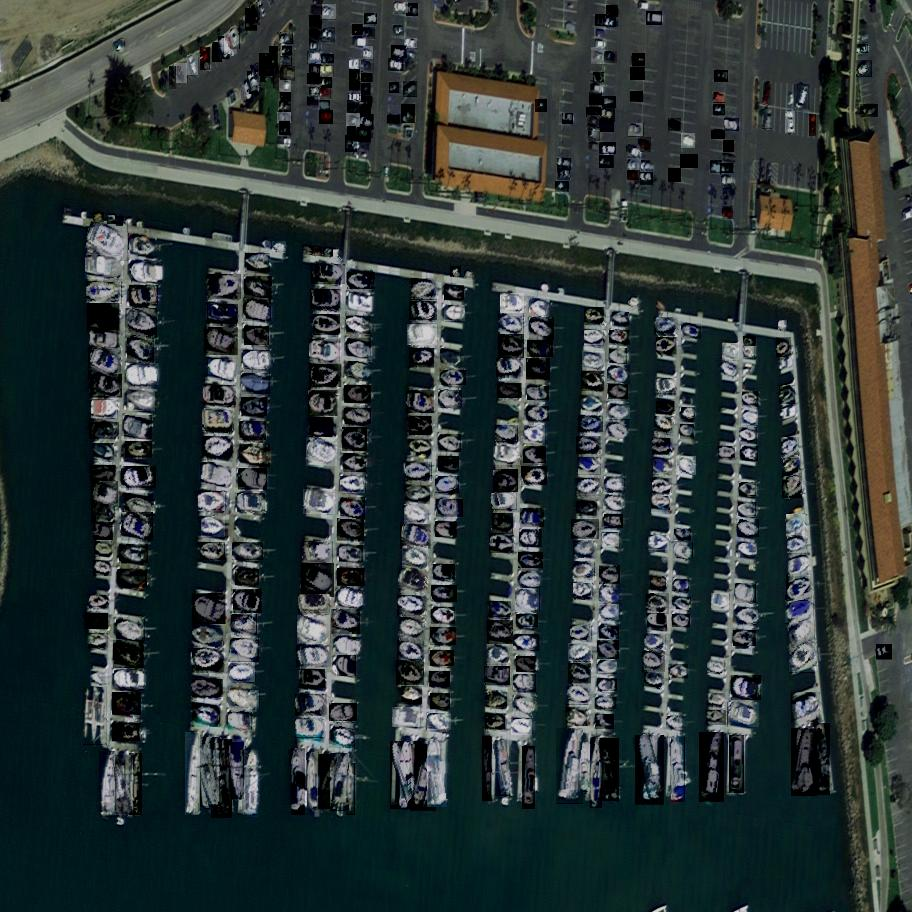ship: (635, 734, 665, 807), (556, 729, 585, 804), (391, 741, 422, 810), (193, 735, 221, 808), (84, 221, 131, 261), (410, 745, 438, 812), (699, 733, 726, 802), (791, 727, 817, 798), (212, 738, 233, 818), (83, 688, 110, 745), (109, 754, 134, 815), (314, 755, 342, 809), (428, 739, 448, 808), (185, 732, 201, 815), (600, 737, 620, 802), (299, 563, 337, 597), (787, 692, 825, 724), (86, 348, 123, 380), (330, 754, 350, 811), (785, 639, 819, 672), (814, 724, 830, 794), (192, 593, 228, 624), (85, 303, 124, 331), (119, 512, 154, 543), (123, 309, 159, 339), (100, 752, 116, 818), (83, 255, 125, 280), (297, 615, 333, 644), (304, 438, 339, 467), (111, 641, 146, 670), (782, 596, 817, 625), (671, 737, 686, 803), (787, 619, 819, 649), (205, 328, 239, 356), (244, 750, 258, 817), (291, 748, 305, 814), (783, 574, 816, 602), (191, 624, 227, 649), (397, 568, 430, 595), (126, 233, 159, 260), (307, 390, 340, 417), (90, 374, 124, 400), (727, 702, 761, 728), (206, 275, 241, 300), (198, 463, 233, 488), (121, 467, 156, 492), (229, 742, 244, 800), (730, 735, 745, 793), (129, 754, 143, 816), (192, 648, 224, 675), (303, 489, 336, 515), (495, 739, 510, 796), (590, 737, 602, 808), (123, 493, 154, 520), (731, 675, 764, 700), (331, 609, 362, 635), (125, 337, 156, 363), (238, 444, 271, 468), (309, 340, 342, 364), (297, 645, 331, 668), (89, 482, 119, 508), (400, 525, 431, 550), (229, 638, 260, 663), (87, 282, 122, 304), (309, 364, 341, 388), (191, 703, 223, 727), (523, 746, 535, 809), (395, 661, 425, 686), (336, 586, 366, 611), (237, 468, 268, 492), (123, 416, 154, 440), (115, 618, 146, 642), (125, 389, 157, 412), (203, 385, 236, 407), (402, 547, 431, 572), (514, 589, 543, 614), (406, 390, 436, 414), (340, 428, 370, 452), (112, 692, 142, 716), (233, 589, 263, 613), (397, 596, 428, 619), (780, 472, 807, 498), (328, 724, 356, 749), (398, 617, 427, 641), (397, 641, 426, 665), (242, 299, 271, 323), (527, 317, 556, 341), (497, 334, 526, 358), (408, 324, 438, 347), (203, 436, 233, 459), (243, 277, 274, 299), (130, 262, 162, 283), (492, 469, 521, 492), (303, 542, 333, 564), (126, 365, 159, 385), (241, 373, 272, 394), (296, 694, 327, 715), (498, 313, 525, 337), (512, 693, 539, 717), (487, 620, 514, 644), (337, 519, 365, 542), (129, 285, 158, 307), (392, 707, 422, 728), (308, 752, 319, 809), (525, 358, 552, 381), (311, 315, 342, 335), (299, 594, 330, 614), (118, 544, 149, 564), (339, 497, 367, 519), (311, 265, 345, 283), (208, 359, 237, 380), (483, 666, 512, 687), (785, 556, 814, 577), (203, 411, 233, 431), (89, 331, 119, 351), (403, 504, 430, 526), (231, 614, 258, 636), (233, 543, 264, 562), (572, 519, 600, 540), (488, 533, 516, 554), (307, 417, 335, 438), (90, 504, 118, 525), (493, 447, 522, 467), (412, 278, 438, 300), (580, 371, 606, 393), (784, 515, 810, 537), (208, 305, 238, 324), (295, 720, 325, 739), (482, 737, 491, 800), (239, 421, 266, 442), (334, 635, 361, 656), (410, 302, 438, 322), (228, 662, 256, 682), (228, 690, 259, 708), (114, 671, 145, 689), (409, 348, 435, 369), (490, 513, 516, 534), (522, 466, 548, 487), (201, 516, 227, 537), (567, 664, 593, 685), (244, 326, 271, 346), (438, 348, 465, 368), (500, 293, 527, 313), (330, 704, 357, 724), (310, 290, 340, 308), (192, 679, 222, 697), (779, 437, 802, 460), (486, 645, 511, 666), (642, 652, 667, 673), (734, 584, 759, 605), (406, 462, 432, 482), (241, 398, 268, 417), (341, 454, 368, 473), (344, 385, 371, 404), (345, 338, 372, 357), (198, 492, 225, 511), (113, 724, 140, 743), (125, 442, 152, 461), (337, 568, 365, 586), (646, 593, 670, 614), (599, 585, 623, 606), (781, 455, 805, 476), (399, 686, 424, 706), (347, 361, 372, 381), (566, 686, 591, 706), (431, 585, 457, 604), (427, 713, 453, 732), (497, 359, 523, 378), (519, 508, 545, 527), (491, 493, 517, 512), (118, 569, 147, 586), (436, 499, 463, 517), (430, 627, 457, 645), (237, 494, 264, 512), (89, 423, 119, 439), (569, 644, 593, 664), (435, 476, 460, 495), (431, 607, 456, 626), (576, 477, 601, 496), (565, 707, 590, 726), (245, 254, 271, 272), (527, 341, 553, 359), (528, 297, 551, 317), (584, 307, 607, 327), (244, 352, 271, 369), (347, 272, 374, 289), (606, 421, 630, 440), (582, 351, 606, 370), (577, 436, 601, 455), (201, 543, 225, 562), (596, 640, 620, 659), (517, 571, 542, 589), (300, 670, 325, 688), (227, 713, 252, 731), (514, 635, 540, 652), (91, 401, 117, 418), (83, 613, 109, 630), (599, 566, 621, 586), (607, 366, 630, 385), (519, 529, 542, 548), (737, 519, 760, 538), (404, 486, 431, 502), (438, 435, 462, 453), (439, 390, 463, 408), (580, 396, 604, 414), (578, 458, 602, 476), (344, 408, 371, 424), (572, 562, 596, 580), (785, 536, 809, 554), (578, 416, 603, 433), (518, 552, 543, 569), (774, 338, 795, 358), (656, 337, 678, 356), (777, 386, 799, 405), (340, 477, 366, 493), (603, 494, 626, 512), (513, 675, 536, 693), (524, 425, 547, 443), (495, 425, 518, 443), (347, 316, 370, 334), (88, 669, 111, 687), (655, 318, 678, 336), (434, 521, 458, 538), (346, 763, 354, 814), (339, 545, 363, 562), (337, 655, 357, 675), (674, 542, 695, 561), (719, 360, 740, 379), (409, 417, 431, 435), (524, 446, 546, 464), (675, 457, 697, 475), (654, 417, 676, 435), (580, 742, 588, 791), (485, 692, 508, 709), (736, 609, 759, 626), (497, 383, 521, 399), (430, 671, 451, 689), (94, 522, 115, 540), (738, 427, 759, 445), (440, 370, 465, 385), (94, 444, 116, 461), (574, 541, 596, 558), (655, 378, 677, 395), (680, 323, 702, 340), (598, 604, 620, 621), (431, 651, 454, 667), (409, 439, 432, 455), (443, 305, 466, 321), (526, 406, 549, 422), (236, 569, 259, 585), (722, 343, 741, 362), (91, 466, 115, 481), (644, 672, 664, 690), (437, 457, 460, 472), (93, 541, 113, 558), (711, 593, 731, 610), (430, 693, 451, 709), (608, 384, 629, 400), (605, 477, 626, 493), (516, 656, 537, 672), (645, 635, 666, 651), (443, 285, 465, 300), (608, 405, 630, 420), (87, 633, 109, 648), (733, 631, 755, 646), (434, 564, 454, 580), (512, 719, 532, 735), (93, 560, 113, 576), (652, 459, 672, 475), (649, 536, 670, 551), (489, 602, 511, 616), (653, 438, 671, 455), (485, 714, 505, 729), (609, 330, 629, 345), (651, 497, 671, 512), (740, 410, 760, 425), (668, 664, 688, 679), (707, 661, 727, 676), (527, 386, 548, 400), (597, 660, 618, 674), (705, 711, 726, 725), (740, 447, 759, 462), (739, 483, 758, 498), (577, 502, 597, 516), (604, 514, 624, 528), (652, 479, 672, 493), (647, 613, 667, 627), (600, 625, 620, 639), (571, 626, 591, 640), (595, 697, 616, 710), (585, 330, 603, 345), (602, 533, 620, 548), (516, 615, 538, 627), (598, 679, 618, 692), (587, 116, 603, 132), (610, 348, 627, 363), (673, 614, 691, 628), (738, 543, 757, 556), (707, 693, 726, 706), (739, 503, 756, 517), (574, 584, 592, 597), (595, 715, 613, 728), (89, 595, 108, 607), (742, 392, 758, 406), (656, 402, 674, 414), (587, 128, 602, 142), (682, 408, 697, 422), (672, 598, 691, 609), (588, 93, 604, 106), (601, 119, 615, 133), (557, 158, 572, 171), (613, 312, 629, 324), (673, 580, 689, 592), (667, 717, 684, 728), (718, 447, 735, 458), (535, 100, 548, 113), (650, 578, 666, 588), (744, 347, 757, 359), (681, 425, 693, 438), (675, 530, 690, 539), (451, 266, 462, 278), (323, 247, 334, 259), (628, 295, 640, 306), (630, 91, 643, 101), (93, 212, 104, 223), (556, 181, 568, 191), (273, 242, 286, 251), (313, 246, 323, 257), (744, 337, 756, 346), (303, 246, 313, 256), (563, 113, 573, 123), (559, 170, 570, 179), (779, 320, 788, 330), (332, 248, 340, 258), (117, 216, 125, 226), (107, 216, 116, 224), (464, 272, 473, 278)
small-vehicle: (794, 84, 812, 111), (258, 53, 278, 76), (242, 8, 259, 31), (250, 64, 267, 87), (399, 104, 419, 123), (217, 36, 232, 60), (173, 63, 190, 84), (222, 34, 239, 55), (589, 47, 608, 65), (358, 114, 376, 131), (356, 126, 374, 143), (875, 645, 894, 661), (278, 66, 297, 82), (247, 72, 260, 95), (855, 61, 873, 77), (249, 2, 261, 25), (242, 79, 254, 102), (308, 25, 324, 42), (347, 101, 364, 117), (321, 5, 338, 21), (402, 82, 420, 97), (358, 59, 376, 74), (680, 155, 698, 170), (268, 46, 280, 68), (320, 28, 337, 43), (229, 26, 240, 49), (186, 56, 198, 77), (211, 42, 223, 63), (200, 48, 211, 70), (628, 123, 644, 138), (638, 137, 654, 152), (626, 145, 642, 160), (346, 114, 362, 129), (762, 81, 772, 105), (786, 110, 796, 134), (391, 46, 408, 60), (588, 81, 605, 95), (762, 109, 773, 130), (681, 133, 696, 148), (406, 3, 421, 18), (647, 12, 663, 26), (112, 39, 128, 53), (278, 78, 294, 92), (306, 51, 323, 64), (345, 135, 358, 152), (861, 104, 878, 117), (668, 167, 681, 184), (599, 155, 614, 169), (630, 67, 645, 81), (627, 158, 642, 172), (669, 118, 683, 133), (319, 110, 333, 125), (389, 59, 405, 72), (600, 109, 616, 122), (599, 142, 616, 154), (169, 67, 178, 89), (712, 104, 726, 118), (307, 62, 322, 75), (724, 118, 739, 131), (720, 164, 735, 177), (720, 206, 735, 219), (605, 51, 619, 64), (709, 161, 723, 174), (307, 73, 322, 85), (363, 47, 375, 62), (640, 172, 653, 185), (721, 173, 734, 186), (280, 99, 291, 114), (632, 54, 645, 66), (309, 39, 321, 52), (363, 27, 376, 39), (0, 90, 12, 103), (321, 66, 334, 78), (279, 121, 290, 135), (393, 3, 408, 13), (809, 115, 816, 136), (606, 16, 618, 28), (606, 5, 618, 17), (405, 39, 418, 50), (641, 161, 654, 172), (278, 112, 291, 123), (602, 97, 616, 107), (593, 29, 607, 39), (714, 71, 728, 81), (627, 171, 641, 181), (310, 16, 322, 27), (713, 92, 725, 103), (281, 56, 293, 67), (364, 14, 377, 24), (587, 108, 601, 117), (393, 25, 404, 36), (596, 15, 607, 26), (360, 106, 371, 117), (390, 83, 401, 94), (321, 77, 332, 88), (354, 37, 366, 47), (361, 84, 371, 96), (320, 87, 330, 99), (321, 54, 334, 63), (352, 24, 362, 35), (349, 70, 359, 81), (724, 141, 734, 152), (281, 33, 292, 43), (712, 130, 724, 139), (856, 44, 868, 53), (260, 61, 265, 82), (362, 97, 372, 107), (593, 72, 603, 82), (349, 94, 360, 103), (307, 96, 318, 105), (320, 101, 330, 110), (361, 74, 372, 82), (280, 92, 291, 100), (387, 116, 399, 123), (350, 59, 359, 68), (350, 82, 360, 90), (282, 47, 292, 55), (309, 88, 320, 94), (348, 127, 356, 135)
